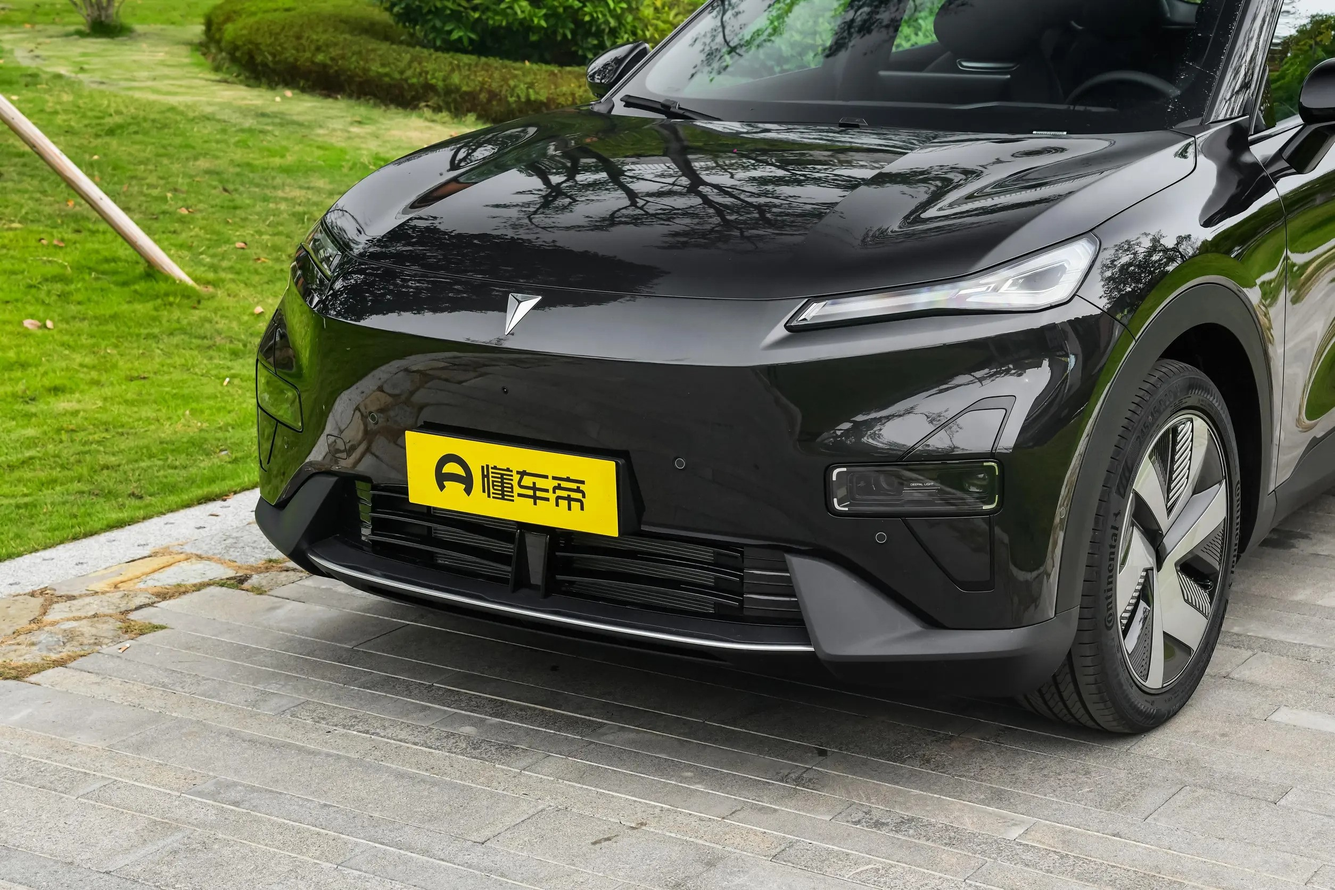Deepal: (505, 293, 541, 334)
